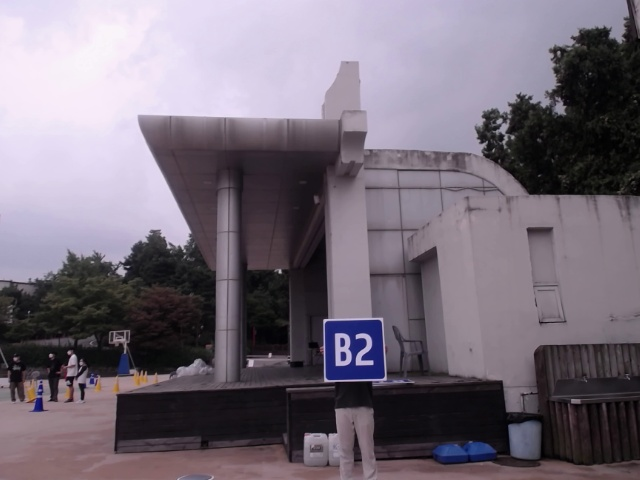delivery_b2: (324, 319, 386, 380)
